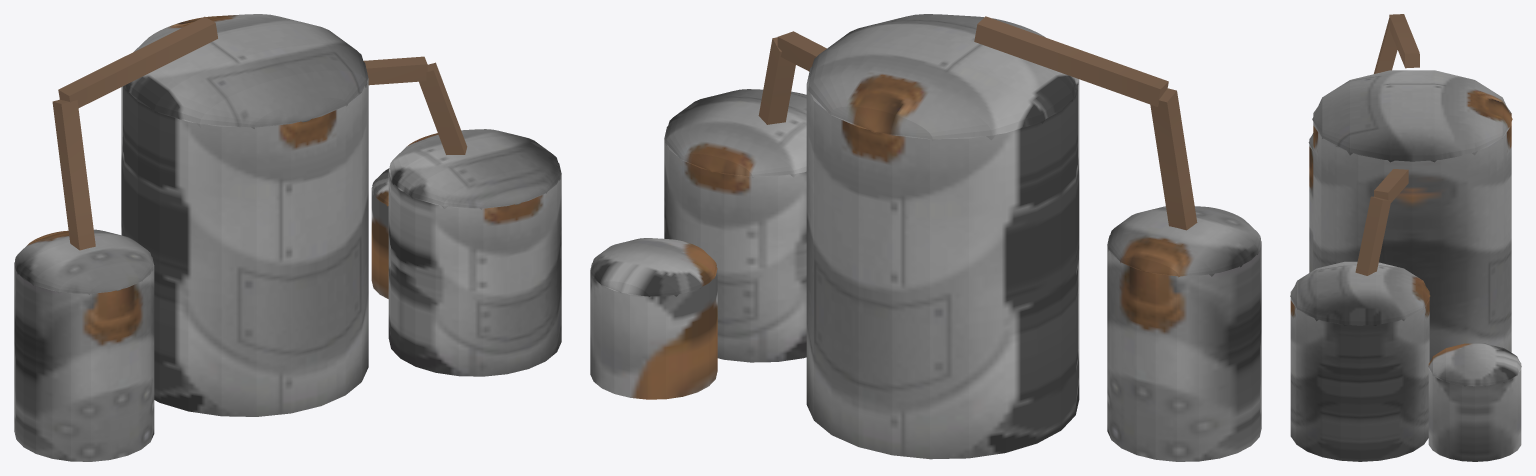
The model's file is Building_BiofuelRefinery.glb.
The picture shows the model from 3 angles, left to right: view 1: azimuth 30°, elevation 25°; view 2: azimuth 150°, elevation 25°; view 3: azimuth 270°, elevation 25°; orthographic projection. The views are drawn at different scales.
Visible parts, largest first — view 1: BiofuelRefinery; view 2: BiofuelRefinery; view 3: BiofuelRefinery.
Part boxes in pixels (left/top/right/bottom): BiofuelRefinery: left=14, top=14, right=561, bottom=461; BiofuelRefinery: left=590, top=14, right=1261, bottom=461; BiofuelRefinery: left=1290, top=14, right=1521, bottom=461.
Bounding box in the file's own units: 2.93 × 1.89 × 1.39.
Materials: 1 (1 with a texture image).
